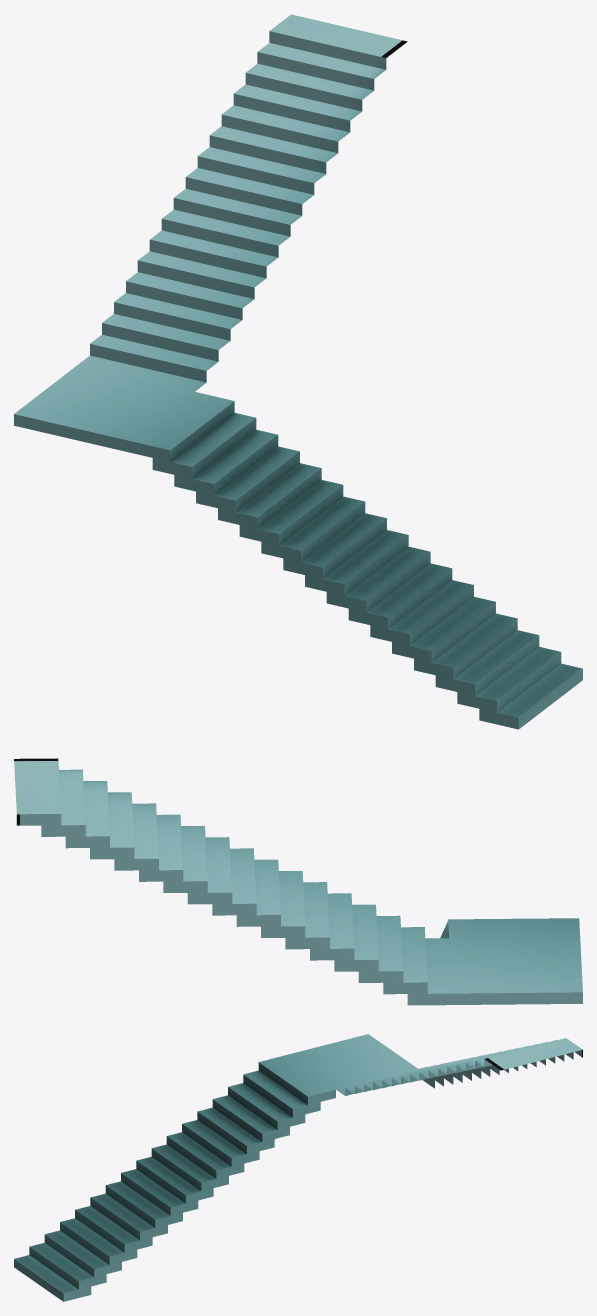
The model's file is L_stairs.glb.
3 renders of one model, top to bottom at view 1: azimuth 30°, elevation 25°; view 2: azimuth 150°, elevation 25°; view 3: azimuth 270°, elevation 25°, orthographic. The views are drawn at different scales.
Parts seen in each view (by area): view 1: Lstairs; view 2: Lstairs; view 3: Lstairs.
Boxes of the visible parts, left/top/right/bottom form: Lstairs: left=14, top=14, right=582, bottom=729; Lstairs: left=14, top=758, right=582, bottom=1005; Lstairs: left=14, top=1034, right=582, bottom=1301.
Size of the model in its own units: 8.83 by 6.68 by 12.45.
Materials: 1 (1 with a texture image).
